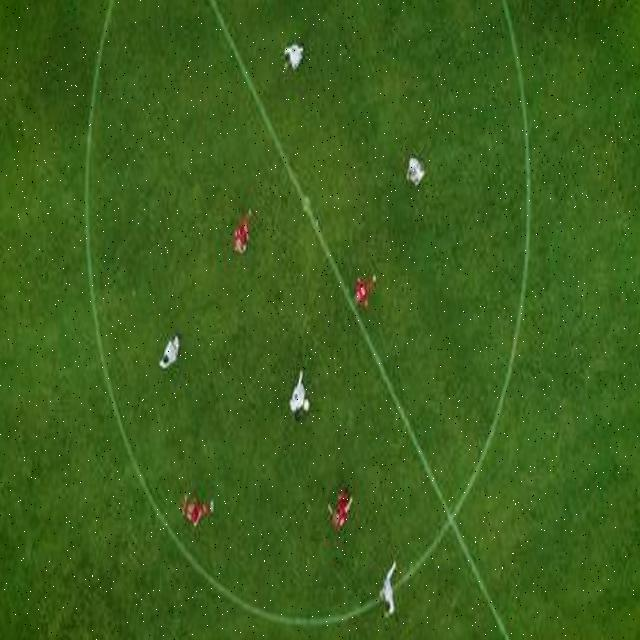humans: (180, 484, 217, 536), (324, 478, 355, 536), (230, 200, 256, 260), (350, 265, 380, 316), (377, 560, 401, 620), (154, 332, 183, 375), (288, 362, 306, 427), (282, 37, 306, 76), (403, 151, 426, 190)
